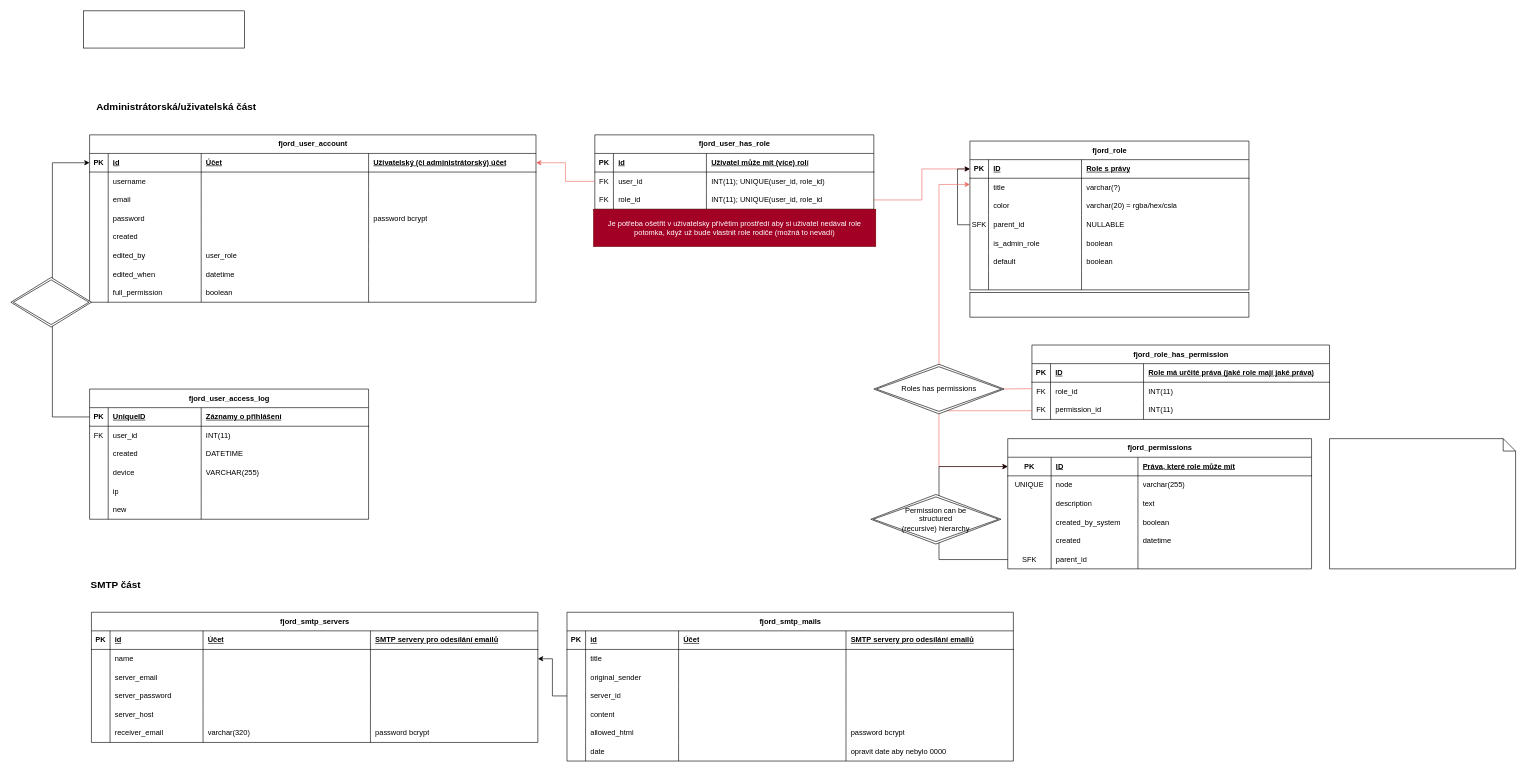
Image size: 1526x772. Some labels were removed from this diagram. The centre of each missing label's shape, as x and y in pixels:
"Account has records in log" goes at point 50,302.
"CONSTRAINT: is_admin_role !== default" goes at point 1109,304.
"List of permissions created by system:" goes at point 1422,503.
"Vysvětlivky: - SFK = Same (Table) Foreign key - MANY HAS MANY (barva pozadí)" goes at point 164,29.
